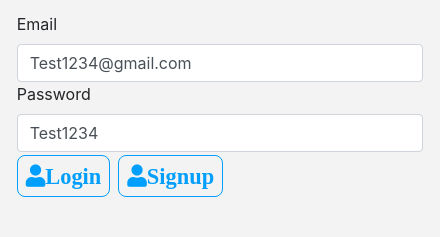
Login Component › displays an error message for password too short
The width and height of the screenshot is (440, 237).
Note: Fill in the password field with a too short password
Replace the text in the field labelled "Password" with "short". click: (220, 133)
box: [17,114,423,152]
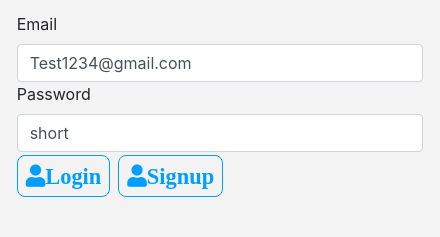
Note: Submit the form
Click the button "Login". click: (64, 176)
box: [17,155,110,197]
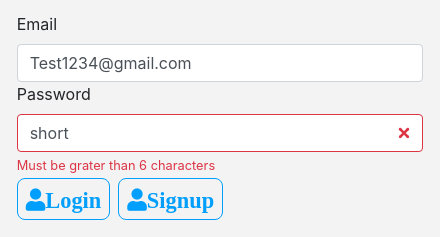
Check: the text "Must be grater than 6 characters" is shown, box [17,158,215,173]
